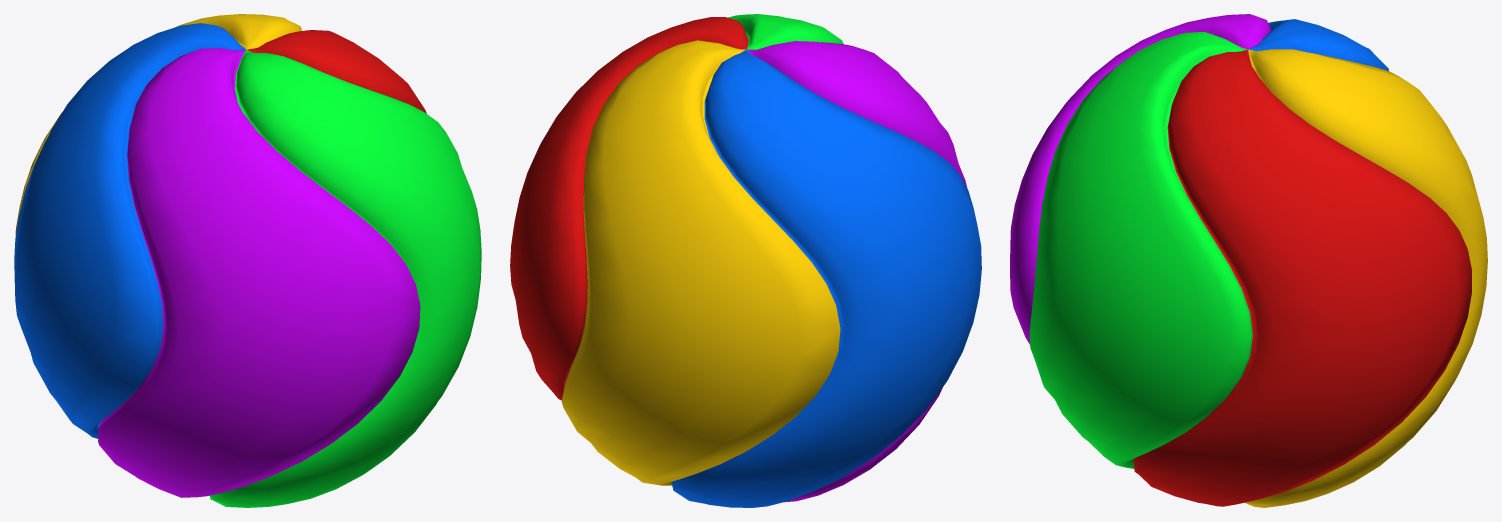
Rendered from Rainbow Ball (3).fbx.
3 renders of one model, left to right at view 1: azimuth 30°, elevation 25°; view 2: azimuth 150°, elevation 25°; view 3: azimuth 270°, elevation 25°, orthographic.
Parts seen in each view (by area): view 1: Sphere.001; view 2: Sphere.001; view 3: Sphere.001.
Part boxes in pixels (box(x1,y1,x2,y2)): Sphere.001: box(14, 14, 481, 507); Sphere.001: box(510, 14, 981, 507); Sphere.001: box(1010, 14, 1487, 507).
Bounding box in the file's own units: 1.94 × 2 × 1.97.
